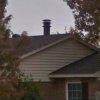Chimney: (36, 14, 58, 43)
